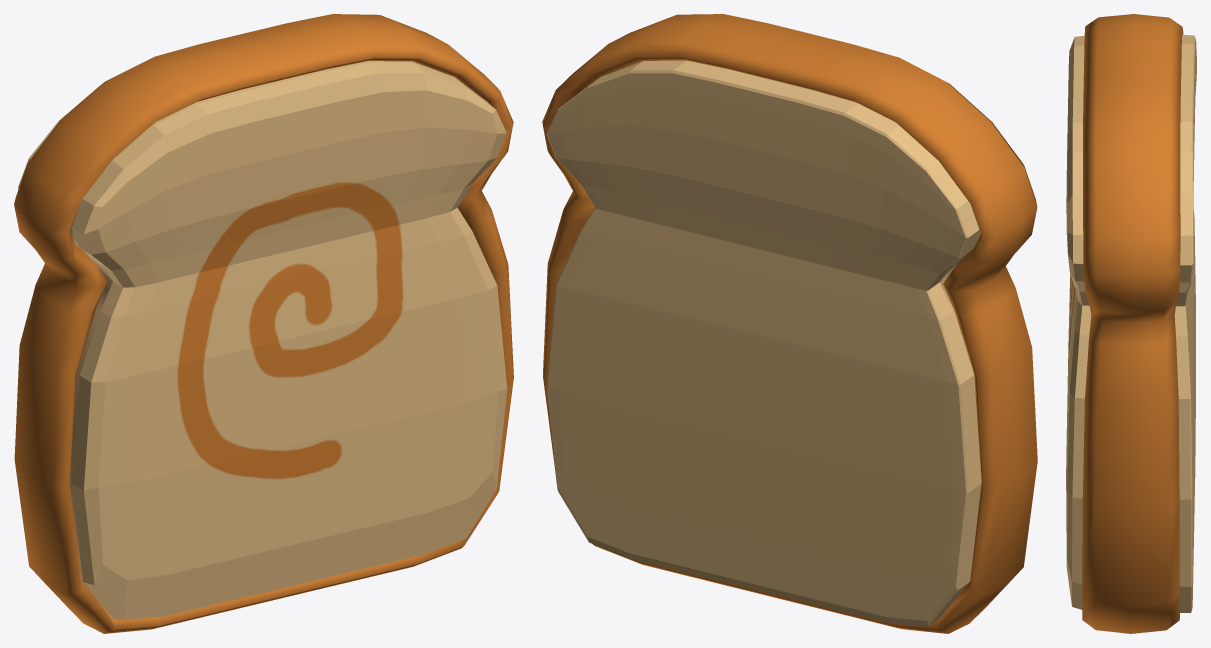
The model's file is bread fix attempt.fbx.
The picture shows the model from 3 angles, left to right: view 1: azimuth 30°, elevation 25°; view 2: azimuth 150°, elevation 25°; view 3: azimuth 270°, elevation 25°; orthographic projection. The views are drawn at different scales.
Parts seen in each view (by area): view 1: bread, CRUST; view 2: bread, CRUST; view 3: CRUST, bread.
Part boxes in pixels (left/top/right/bottom): bread: left=18, top=61, right=507, bottom=620; CRUST: left=14, top=14, right=513, bottom=633; bread: left=546, top=60, right=1021, bottom=626; CRUST: left=542, top=14, right=1037, bottom=633; CRUST: left=1082, top=14, right=1183, bottom=633; bread: left=1066, top=35, right=1196, bottom=612.
Size of the model in its own units: 18.23 by 20.3 by 4.84.
2 materials, 1 textured.
